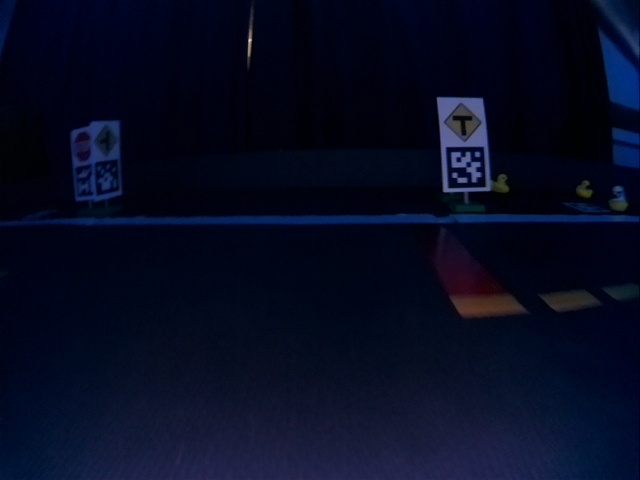Duckie: (611, 186, 626, 212), (493, 177, 507, 194), (577, 180, 592, 195)
Intersection sign: (442, 101, 482, 142), (95, 124, 120, 156)
QR code: (444, 148, 484, 190), (96, 162, 121, 198), (74, 167, 92, 198), (563, 200, 608, 211)
Stop sign: (72, 130, 91, 161)
